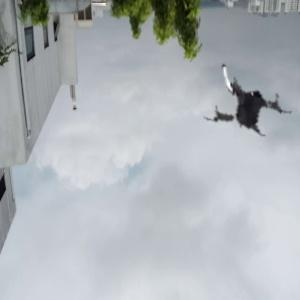drone: (196, 45, 300, 150)
